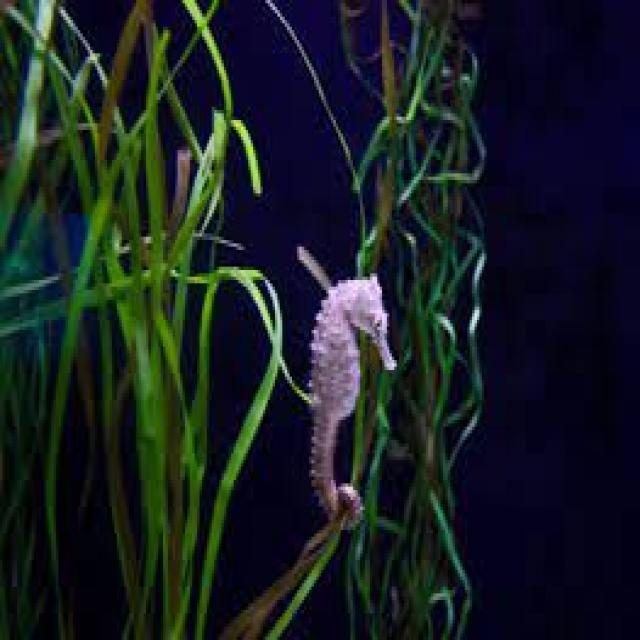SeaHorse: (297, 246, 397, 534)
